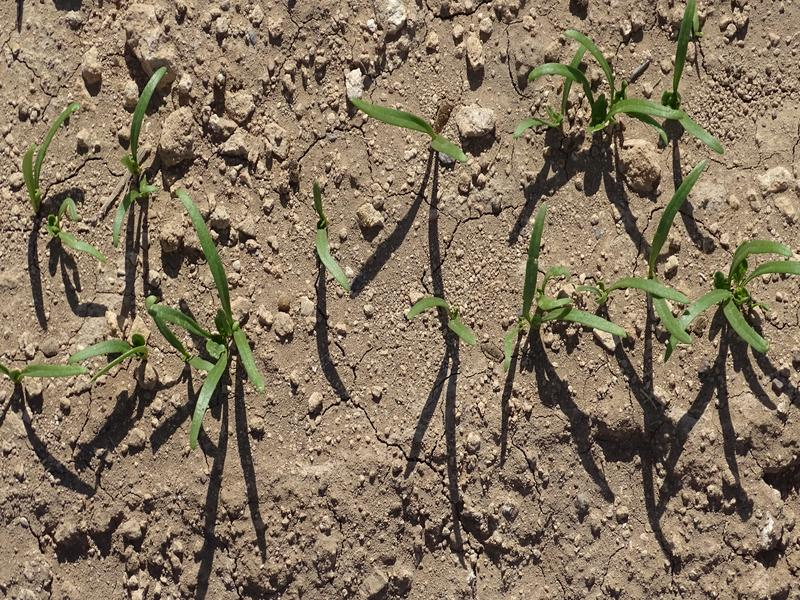Espinaca: (505, 189, 797, 363), (522, 14, 733, 156), (25, 65, 175, 250), (152, 204, 267, 441), (354, 95, 467, 163), (6, 335, 145, 390), (311, 192, 361, 292), (409, 295, 482, 345)
